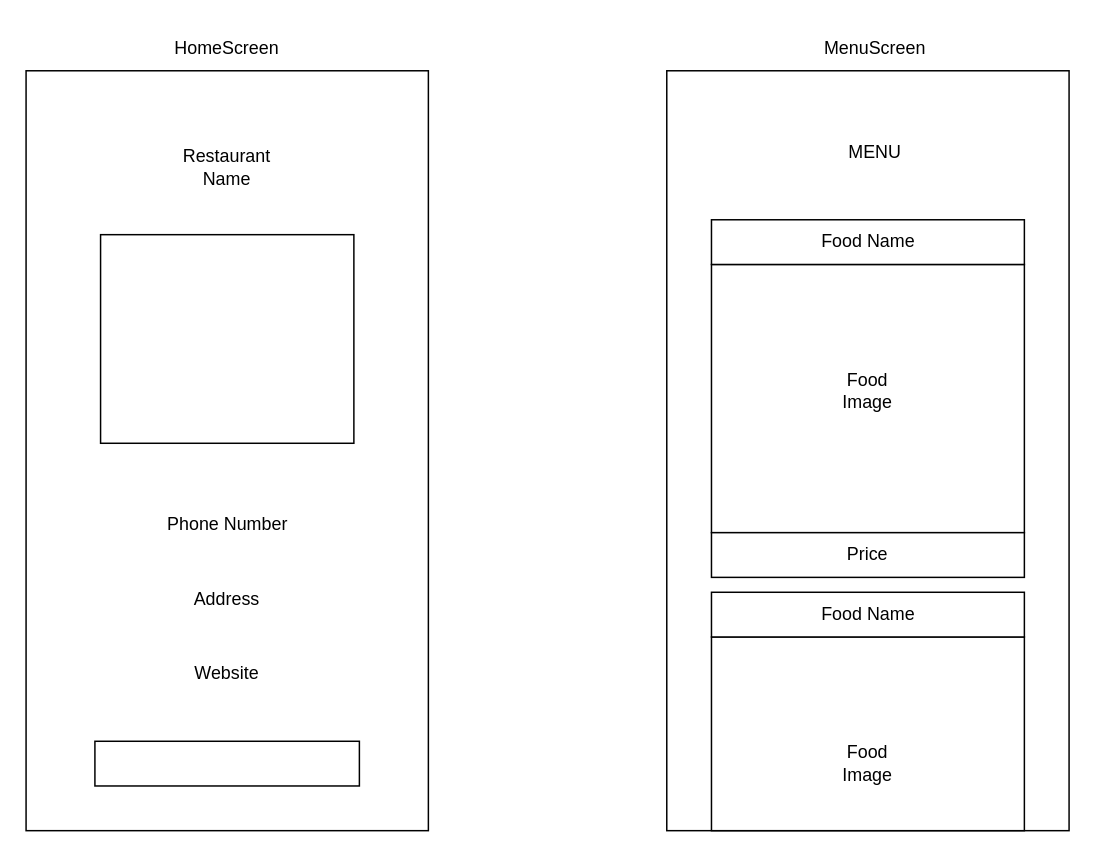
The diagram is 1095 pixels wide and 857 high, and some of its shapes have lost their labels. The shapes that lost their labels are listed below. From the top down, each one's centre as x and y in pixels, then its label:
At (x=226, y=338): "Restuarant Image".
At (x=226, y=763): "View Menu".
